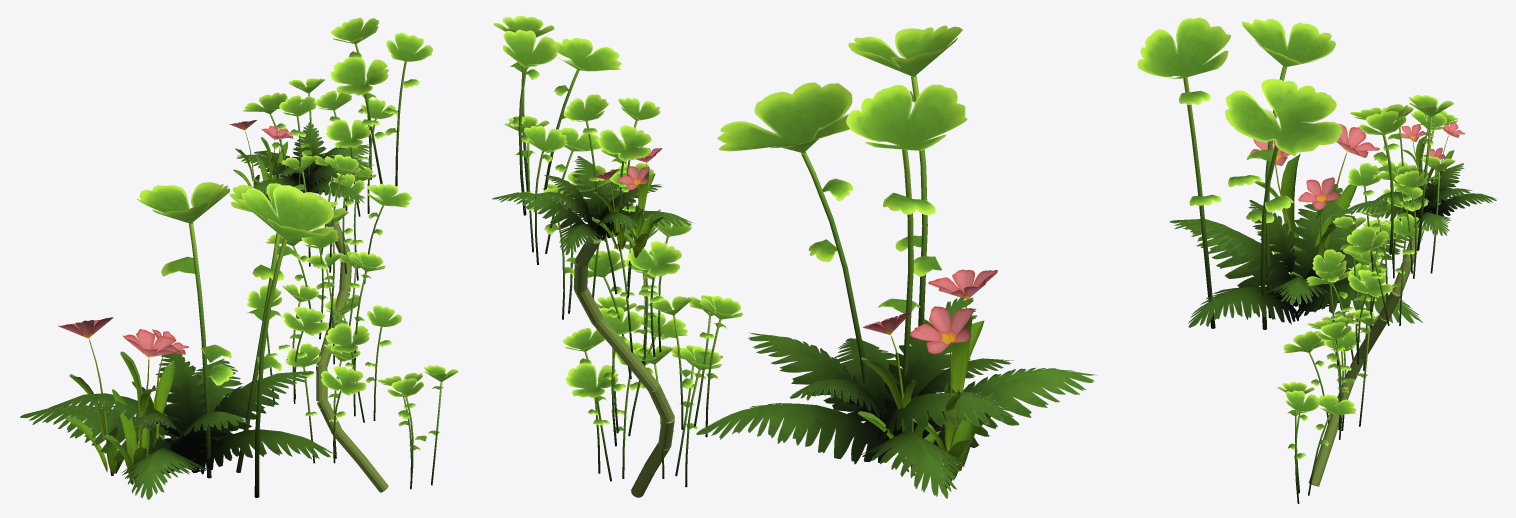
The model's file is Abandoned_Handcart_Greenery.glb.
3 renders of one model, left to right at view 1: azimuth 30°, elevation 25°; view 2: azimuth 150°, elevation 25°; view 3: azimuth 270°, elevation 25°, orthographic. The views are drawn at different scales.
Parts seen in each view (by area): view 1: Patch_02, Patch_00, Patch_01, Patch_03; view 2: Patch_00, Patch_02, Patch_01, Patch_03; view 3: Patch_00, Patch_02, Patch_01, Patch_03.
Part boxes in pixels (x1,y1,x2,y2): Patch_02: (236,17,458,492); Patch_00: (20,182,345,499); Patch_01: (58,317,188,487); Patch_03: (229,120,294,203); Patch_00: (696,25,1096,498); Patch_02: (492,15,742,497); Patch_01: (858,269,1000,488); Patch_03: (592,148,663,257); Patch_00: (1137,17,1422,329); Patch_02: (1277,95,1497,503); Patch_01: (1250,122,1379,277); Patch_03: (1401,122,1464,207).
Size of the model in its own units: 1.17 by 1.14 by 0.9316.
Materials: 5 (4 with a texture image).
